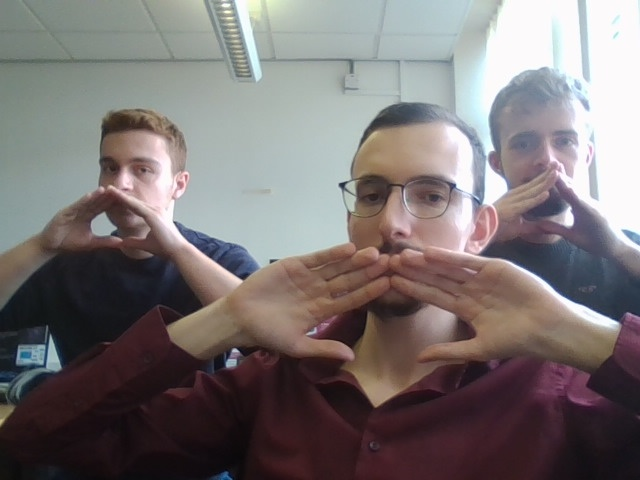thankyou: (225, 244, 561, 360), (487, 162, 620, 259), (39, 185, 174, 261)
